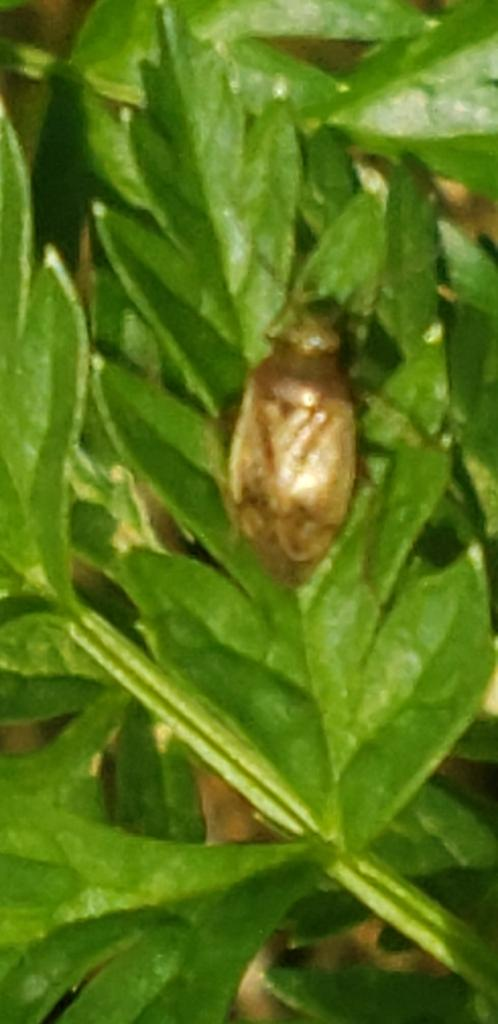plant_bugs: (165, 270, 417, 601)
